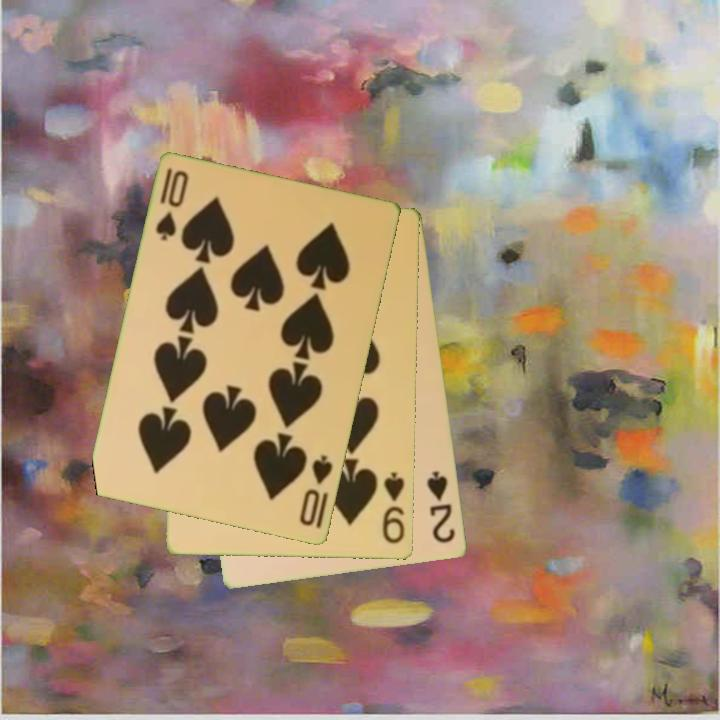10s: (152, 164, 192, 245), (296, 452, 336, 530)
2s: (423, 468, 459, 547)
9s: (379, 469, 408, 547)
